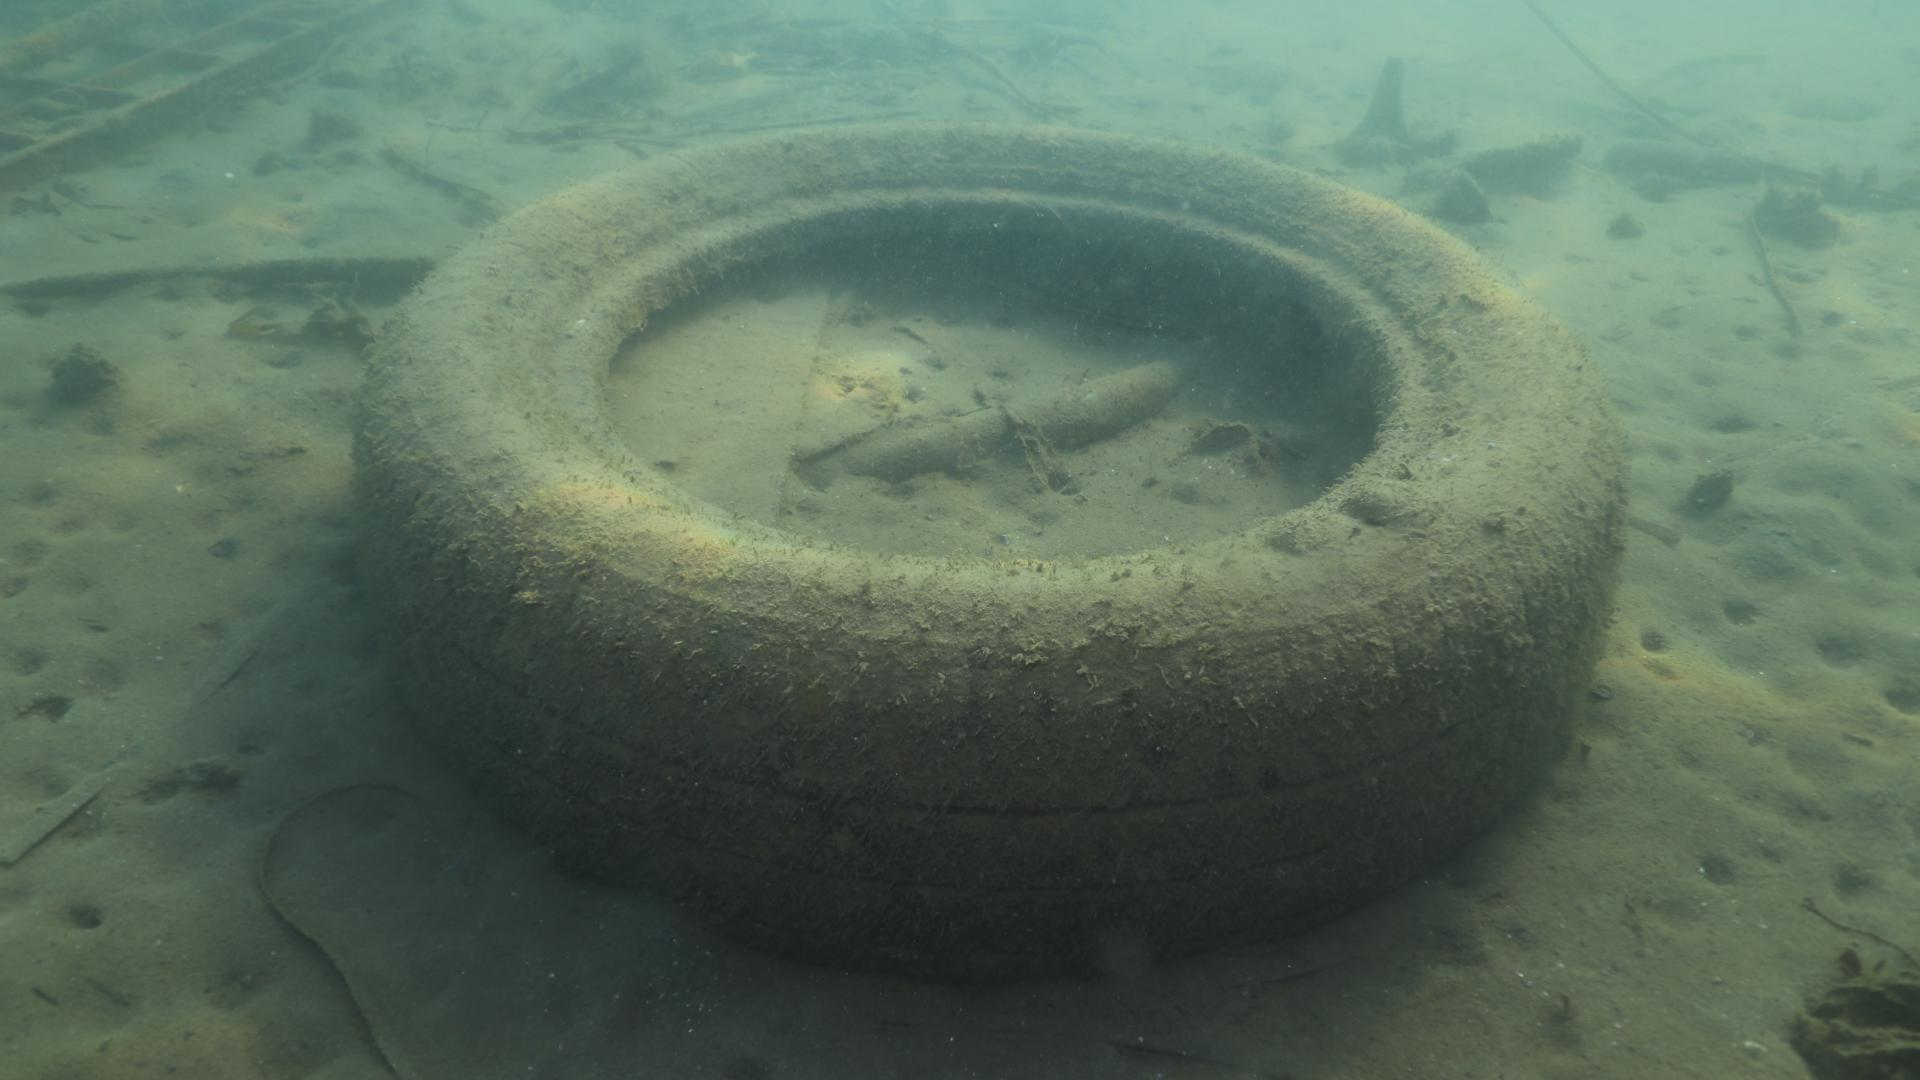tire: (349, 113, 1627, 972)
